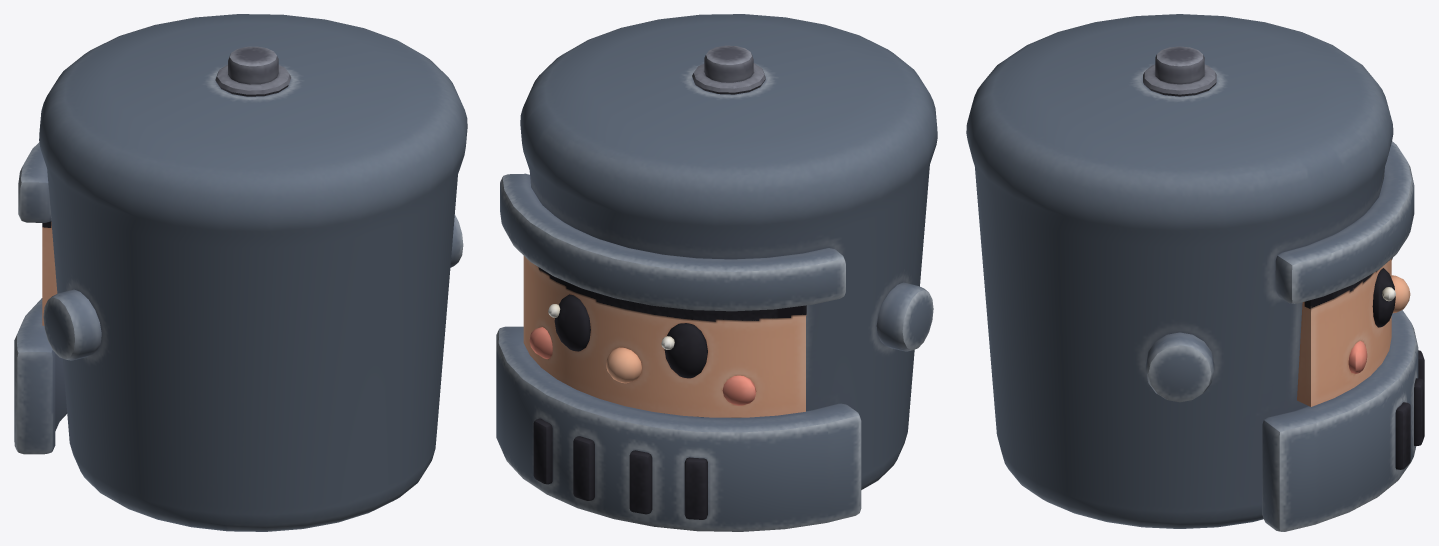
File: head.glb
The picture shows the model from 3 angles, left to right: view 1: azimuth 30°, elevation 25°; view 2: azimuth 150°, elevation 25°; view 3: azimuth 270°, elevation 25°; orthographic projection. The views are drawn at different scales.
Visible parts, largest first — view 1: head; view 2: head; view 3: head.
Part boxes in pixels (bbox=[...]): head: bbox=[14, 14, 467, 531]; head: bbox=[496, 14, 937, 531]; head: bbox=[966, 14, 1424, 531].
Size of the model in its own units: 0.5 by 0.495 by 0.5083.
6 materials, 6 textured.
